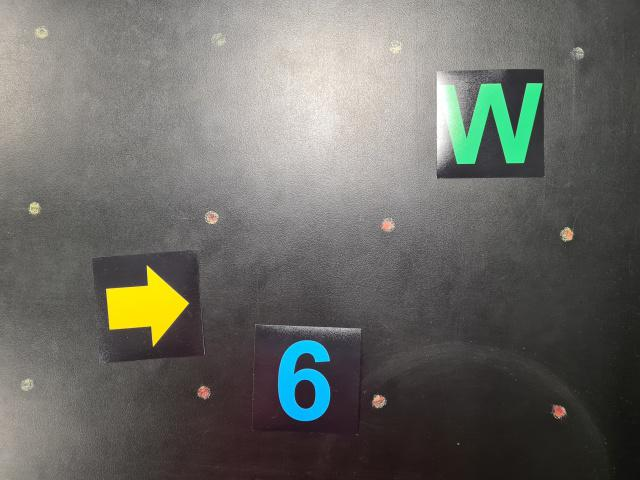6: (252, 324, 363, 436)
right: (91, 251, 208, 361)
w: (436, 69, 548, 180)
